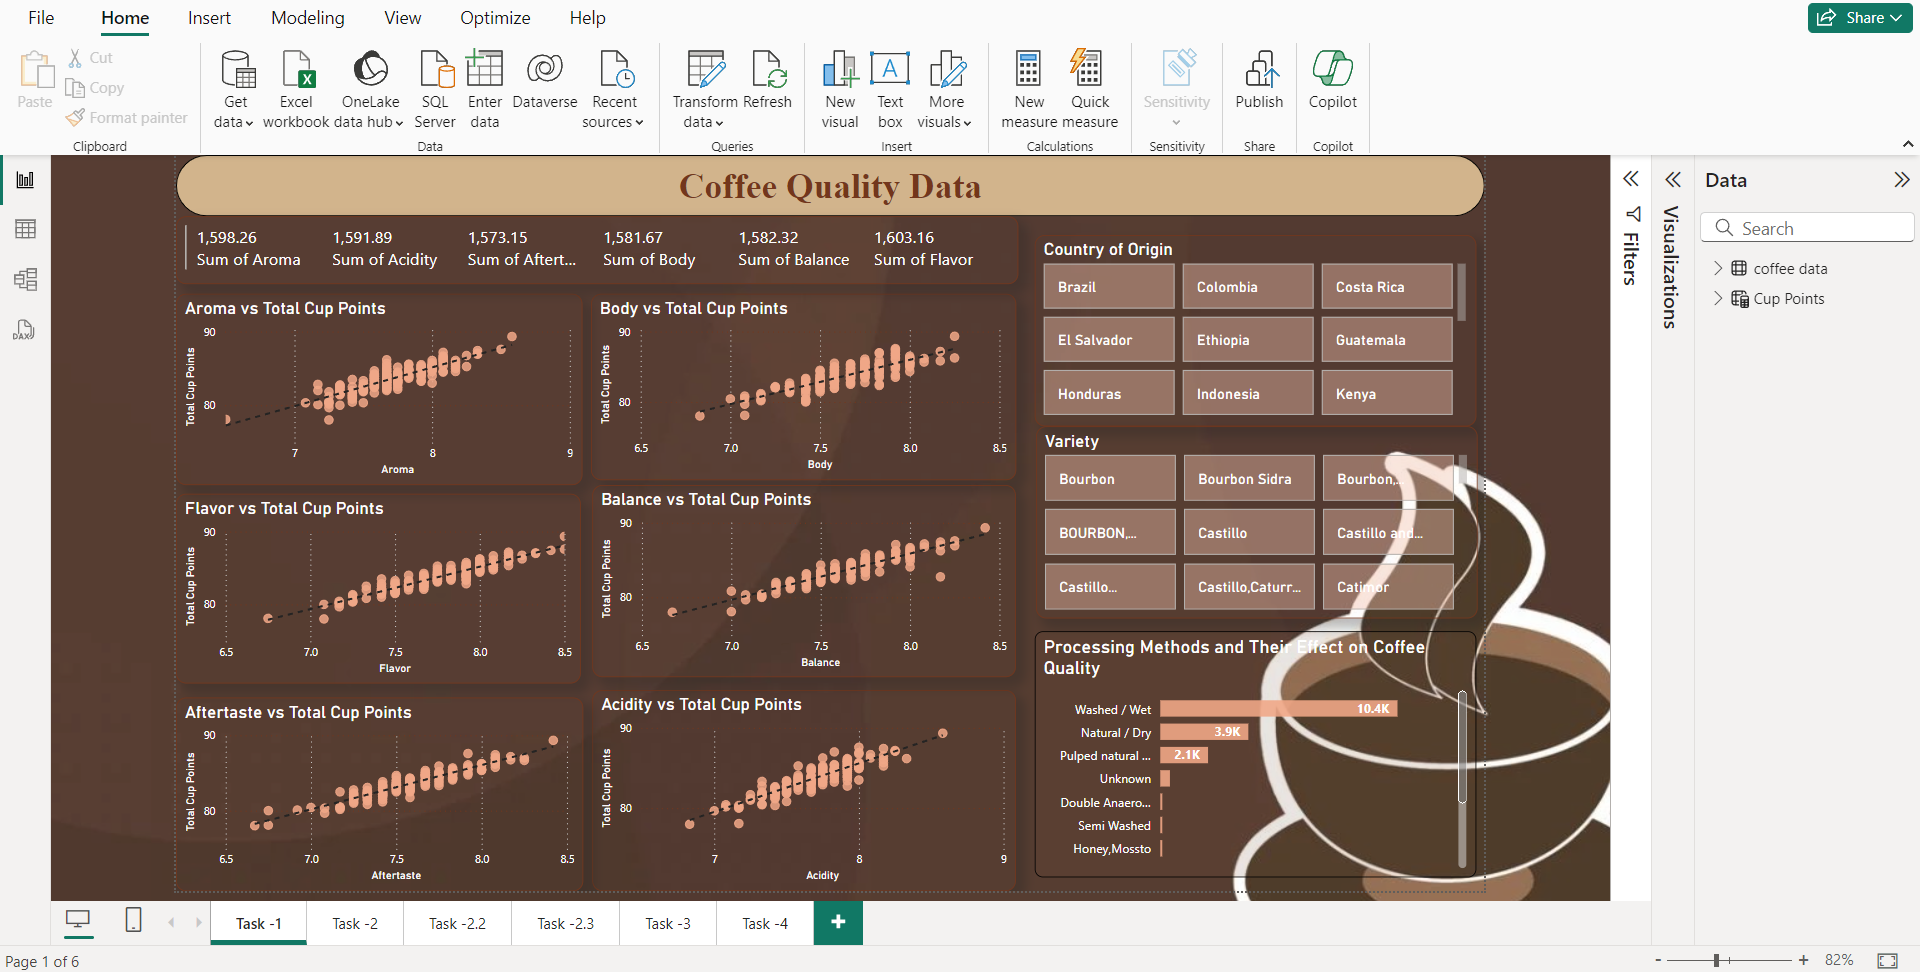

The page's visual inventory and layout, read from the dashboard file:
{"tool":"powerbi","page":{"name":"Task -1","canvas":[1280,720],"ordinal":0},"visuals":[{"type":"shape","box":[0,0,1280.3,59.9],"z":0},{"type":"scatterChart","title":"Aroma vs Total Cup Points","fields":{"X":["Cup Points.Aroma"],"Y":["Cup Points.Total Cup Points"]},"box":[0,135.7,397.4,187.1],"z":1000},{"type":"scatterChart","title":"Flavor vs Total Cup Points","fields":{"Y":["Cup Points.Total Cup Points"],"X":["Cup Points.Flavor"]},"box":[0,331.4,396.2,185.9],"z":2000},{"type":"scatterChart","title":"Acidity vs Total Cup Points","fields":{"X":["Cup Points.Acidity"],"Y":["Cup Points.Total Cup Points"]},"box":[407.2,523.4,414.5,196.9],"z":3000},{"type":"scatterChart","title":"Aftertaste vs Total Cup Points","fields":{"X":["Cup Points.Aftertaste"],"Y":["Cup Points.Total Cup Points"]},"box":[0,530.7,398.6,189.5],"z":4000},{"type":"scatterChart","title":"Body vs Total Cup Points","fields":{"X":["Cup Points.Body"],"Y":["Cup Points.Total Cup Points"]},"box":[406,135.7,415.8,182.2],"z":5000},{"type":"scatterChart","title":"Balance vs Total Cup Points","fields":{"X":["Cup Points.Balance"],"Y":["Cup Points.Total Cup Points"]},"box":[407.2,322.8,414.5,188.3],"z":6000},{"type":"advancedSlicerVisual","fields":{"Values":["coffee data.Country of Origin"]},"box":[840.1,78.3,431.7,187.1],"z":7000},{"type":"advancedSlicerVisual","fields":{"Values":["coffee data.Variety"]},"box":[841.3,265.4,431.7,188.3],"z":8000},{"type":"barChart","title":"Processing Methods and Their Effect on Coffee Quality","fields":{"Category":["coffee data.Processing Method"],"Y":["Sum(coffee data.Total Cup Points)"]},"box":[840.1,465.9,431.7,240.9],"z":9000},{"type":"multiRowCard","fields":{"Values":["Sum(Cup Points.Aroma)","Sum(Cup Points.Acidity)","Sum(Cup Points.Aftertaste)","Sum(Cup Points.Body)","Sum(Cup Points.Balance)","Sum(Cup Points.Flavor)"]},"box":[0,59.9,824.2,66],"z":10000}]}

Visuals, with their boxes on the page's 1280x720 design canvas (x1, y1, x2, y2). These are canvas units, not pixel positions in the 1920x972 screenshot, which may show the page scaled, cropped or inside an application window:
shape: [0,0,1280,60]
"Aroma vs Total Cup Points" scatterChart: [0,136,397,323]
"Flavor vs Total Cup Points" scatterChart: [0,331,396,517]
"Acidity vs Total Cup Points" scatterChart: [407,523,822,720]
"Aftertaste vs Total Cup Points" scatterChart: [0,531,399,720]
"Body vs Total Cup Points" scatterChart: [406,136,822,318]
"Balance vs Total Cup Points" scatterChart: [407,323,822,511]
advancedSlicerVisual - coffee data.Country of Origin: [840,78,1272,265]
advancedSlicerVisual - coffee data.Variety: [841,265,1273,454]
"Processing Methods and Their Effect on Coffee Quality" barChart: [840,466,1272,707]
multiRowCard - Sum(Cup Points.Aroma) x Sum(Cup Points.Acidity): [0,60,824,126]
